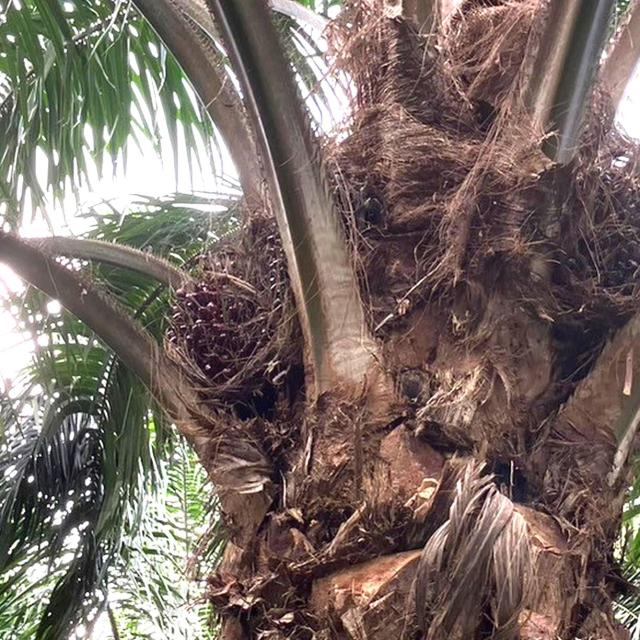ripe: (154, 243, 291, 419)
